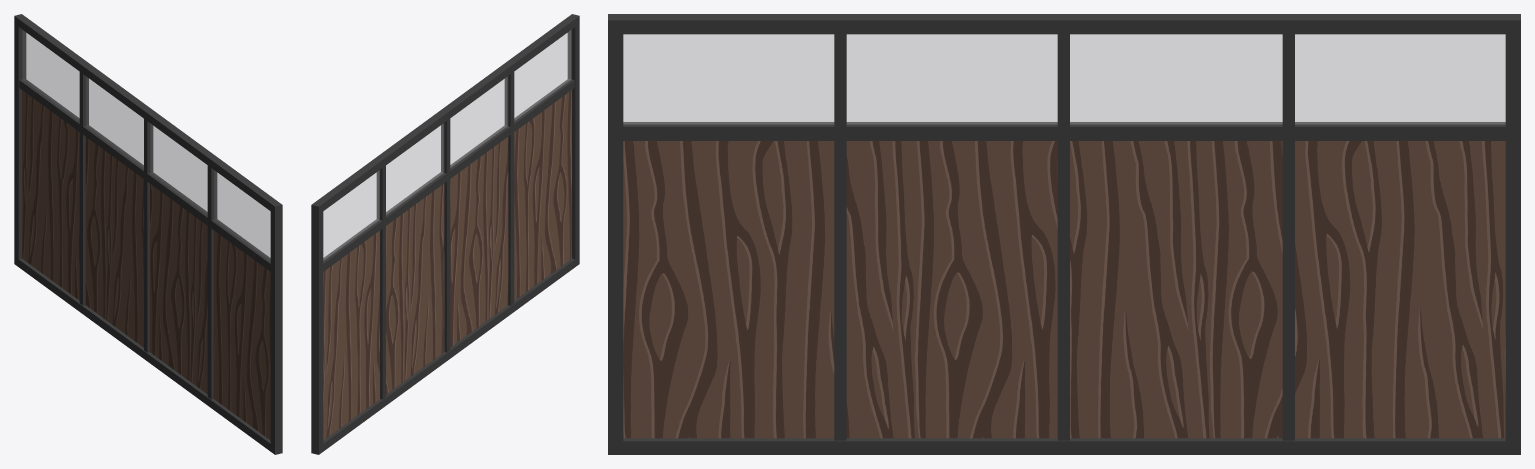
The model's file is Seperator12.fbx.
3 views of the same model, side by side, from view 1: azimuth 30°, elevation 25°; view 2: azimuth 150°, elevation 25°; view 3: azimuth 270°, elevation 25° (orthographic). The views are drawn at different scales.
Parts seen in each view (by area): view 1: Seperator12; view 2: Seperator12; view 3: Seperator12.
Part boxes in pixels (<box>): Seperator12: <box>14,14,282,454</box>; Seperator12: <box>311,14,579,454</box>; Seperator12: <box>608,14,1520,454</box>.
Size of the model in its own units: 0.0501 by 3 by 1.58.
